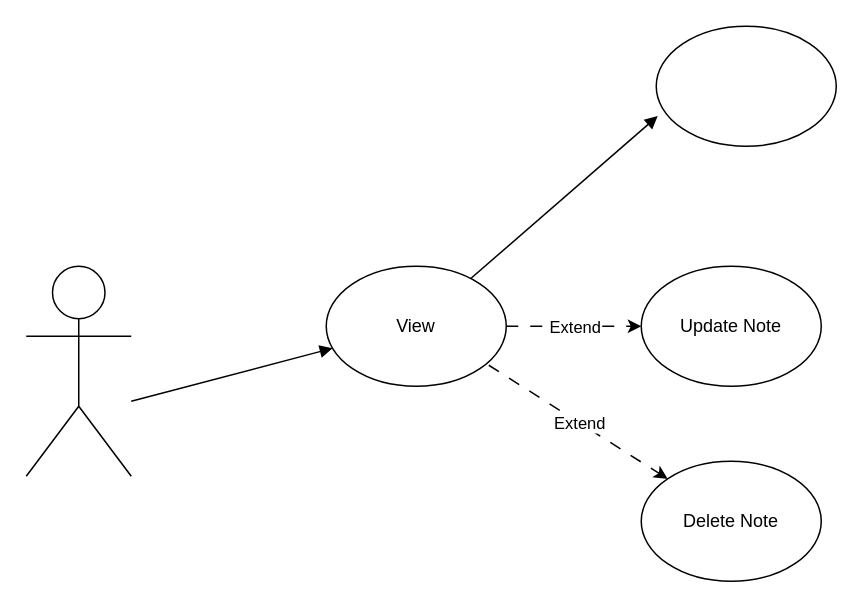
The diagram is 863 pixels wide and 608 high, and some of its shapes have lost their labels. Here are the shapes that lost their labels. From the top down, the box of each, then its label:
(655, 25, 836, 146): Add Note
(25, 265, 131, 476): Actor
